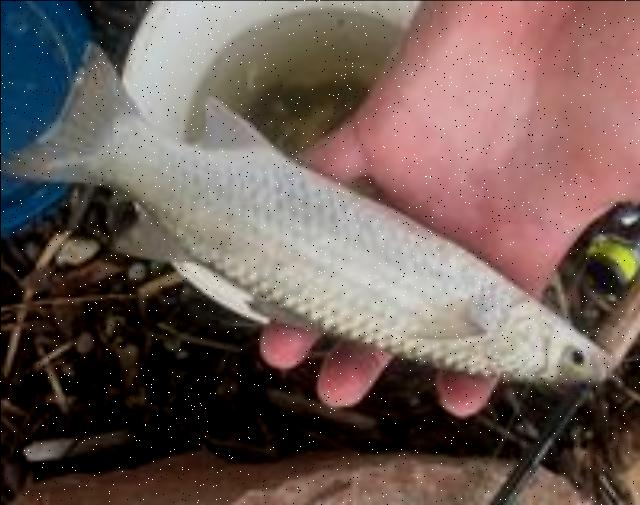Mulut: (582, 337, 626, 393)
Sirip Anal: (185, 90, 279, 170)
Sirip Dada: (392, 294, 498, 362)
Sirip Ekor: (0, 34, 136, 192)
Sirip Punggung: (111, 193, 322, 351)
